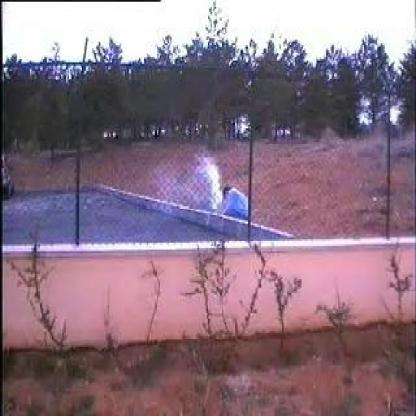-: (171, 156, 223, 206)
